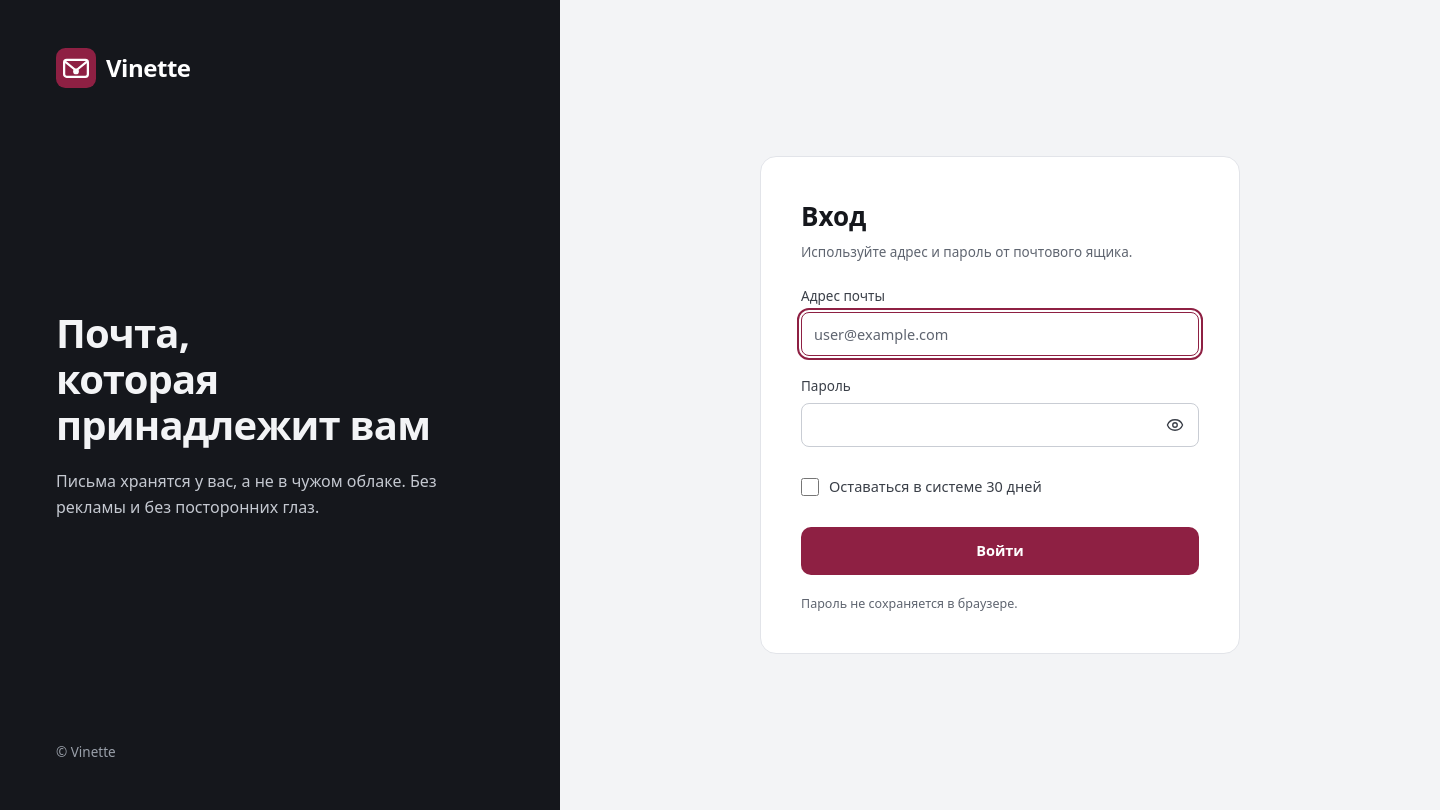
Scenario: login screen › says that mail is unavailable without technical details
Type "alice@vinette.test" into the field labelled "Адрес почты" at (1000, 334), box x1=801 y1=312 x2=1199 y2=356
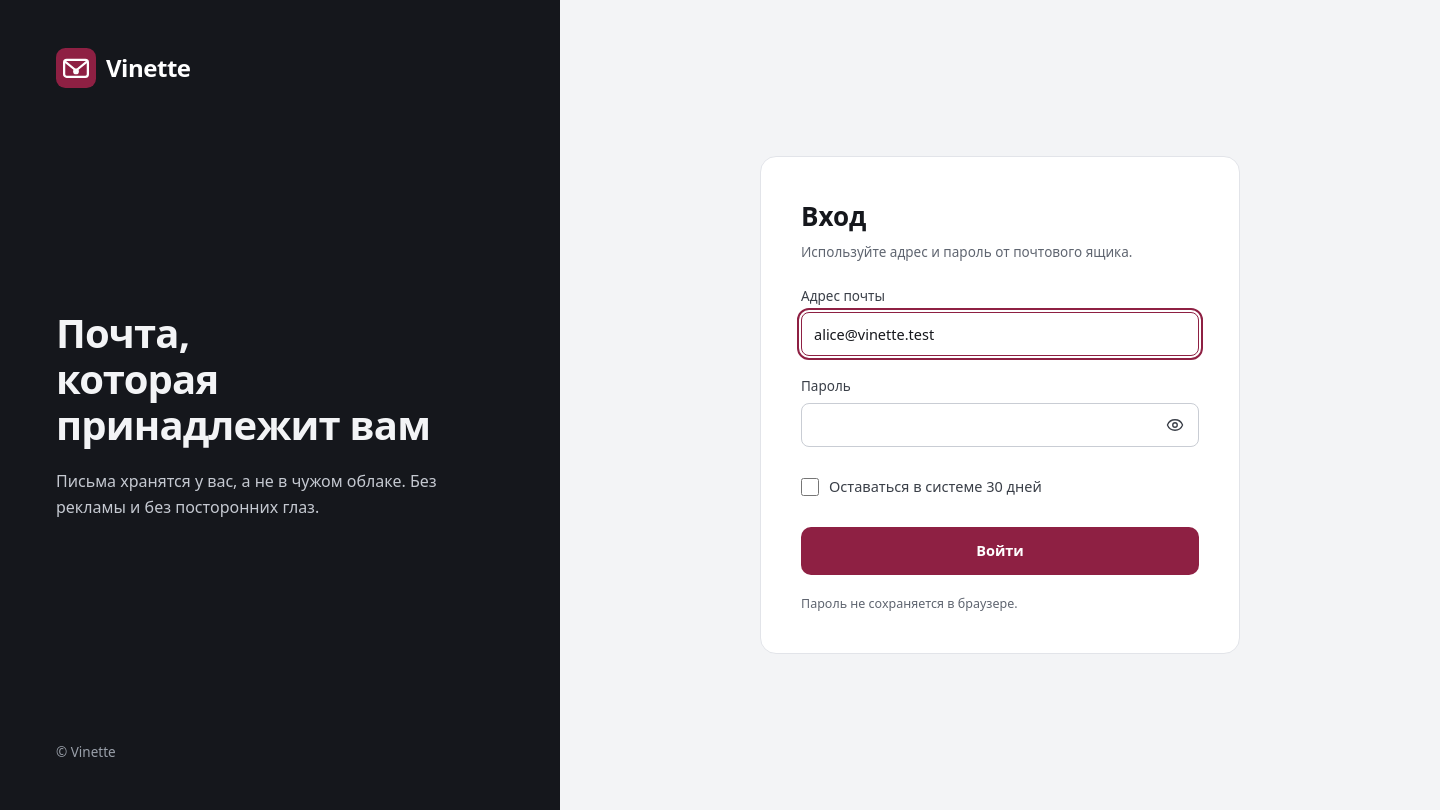
Type "right" into the password field labelled "Пароль" at (1000, 424), box x1=801 y1=402 x2=1199 y2=446
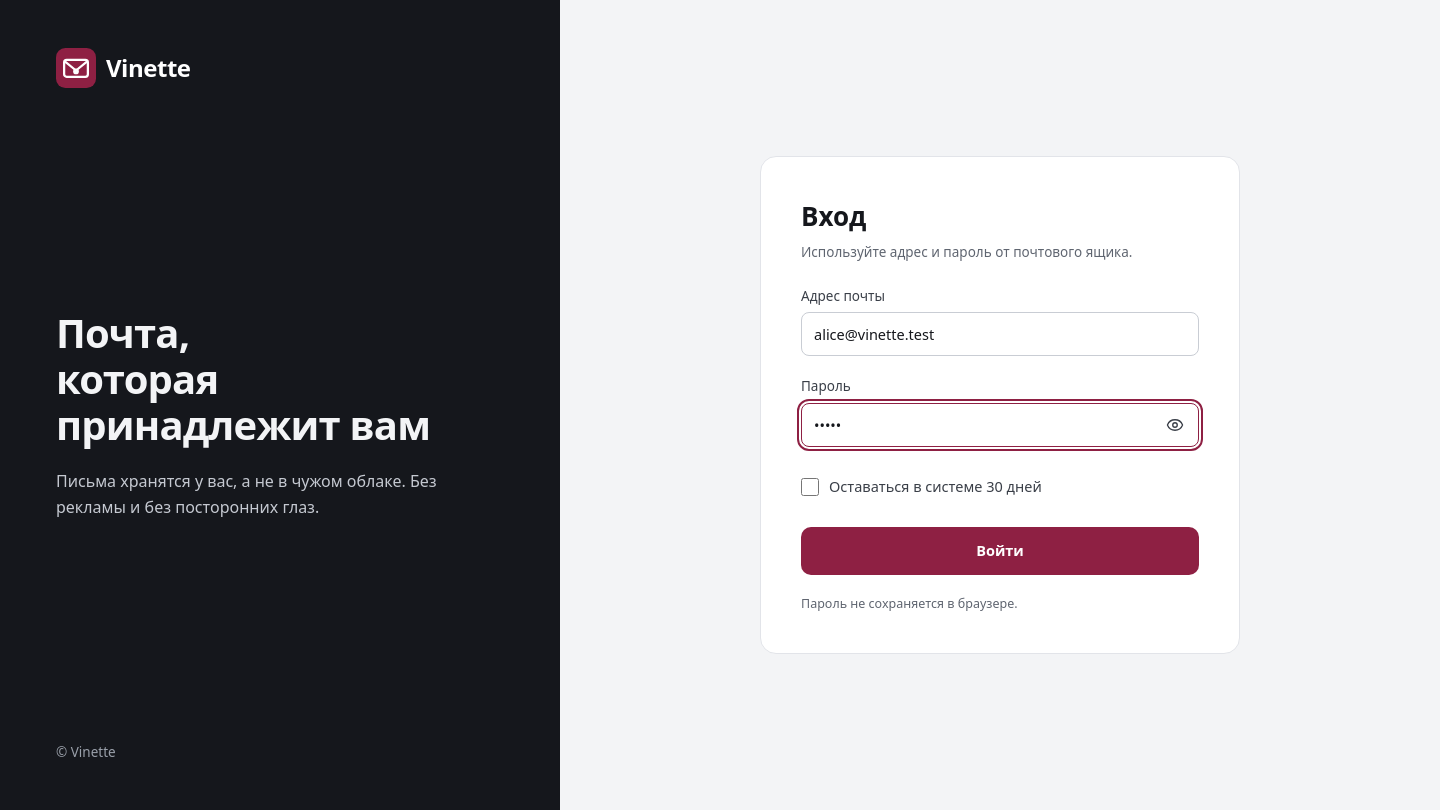
Click the button "Войти" at (1000, 550), box x1=801 y1=526 x2=1199 y2=574
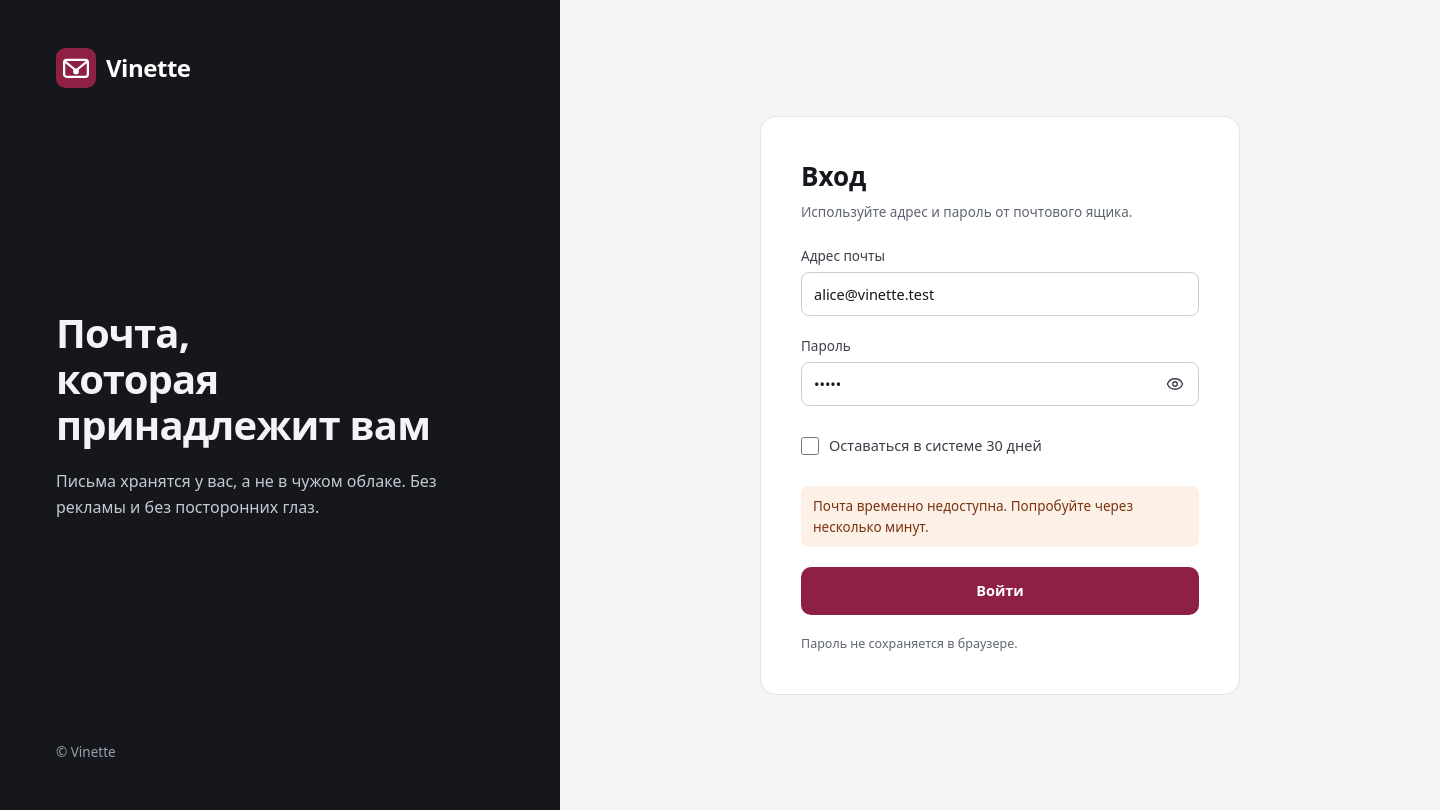
expect the message shows "Почта временно недоступна.": met, box x1=813 y1=497 x2=1133 y2=536
